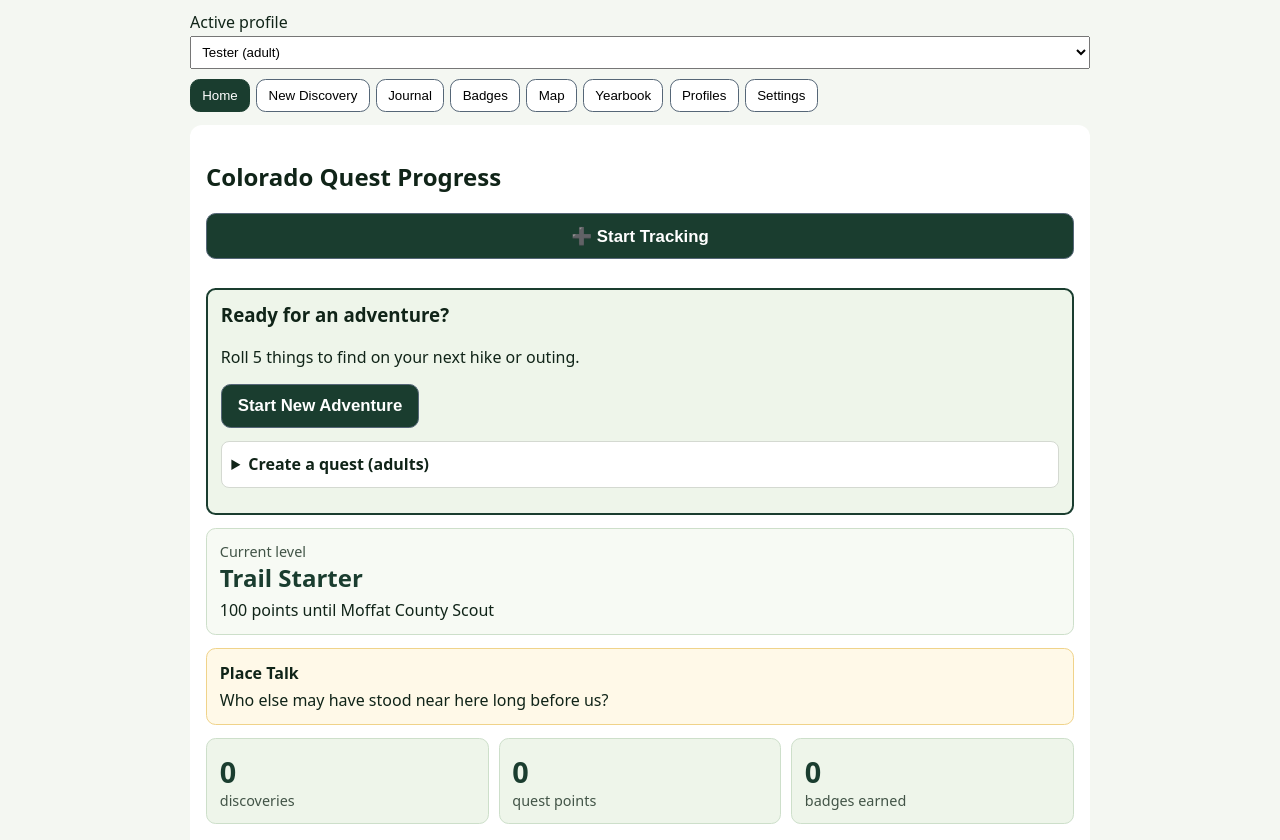
Test case: New Discovery save button › Save Discovery is disabled until category, profile, photo, and GPS are set
This screenshot has width=1280, height=840.
Click the button "New Discovery": (313, 95) [256,79,370,112]
(page scrolled)
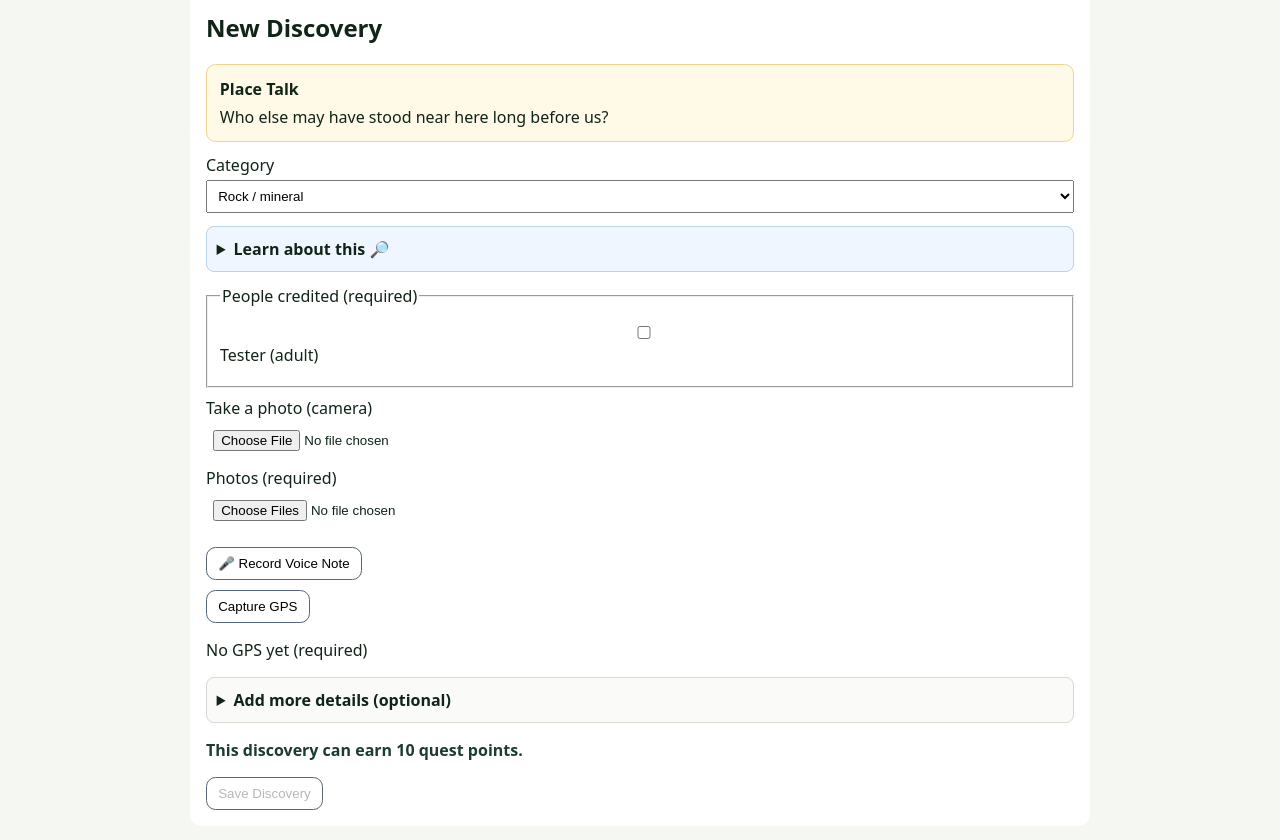
Result: the button "Save Discovery" is disabled at [206,777,323,810]
